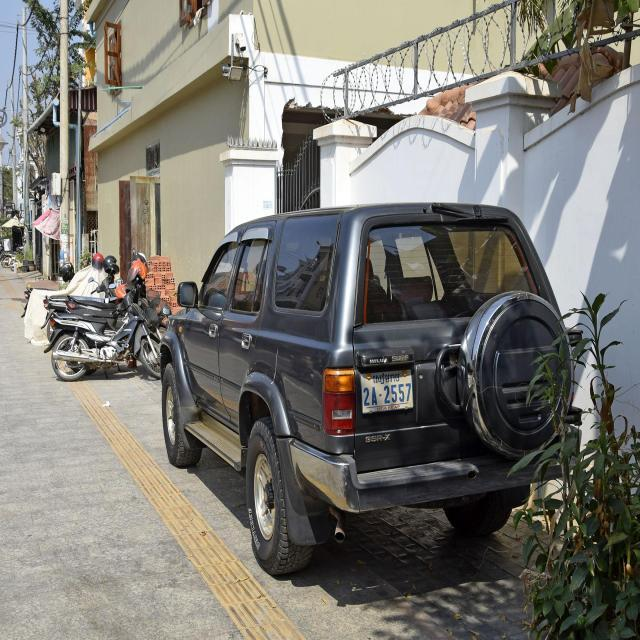Siem_Reap: (372, 370, 400, 386)
